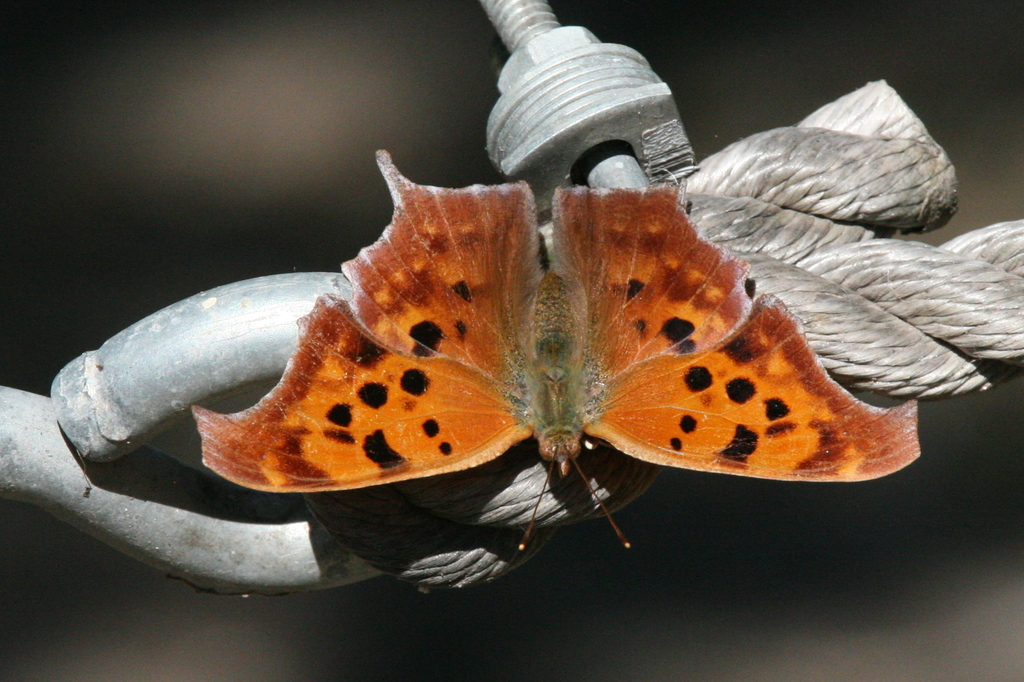Butterfly: (190, 116, 932, 507)
